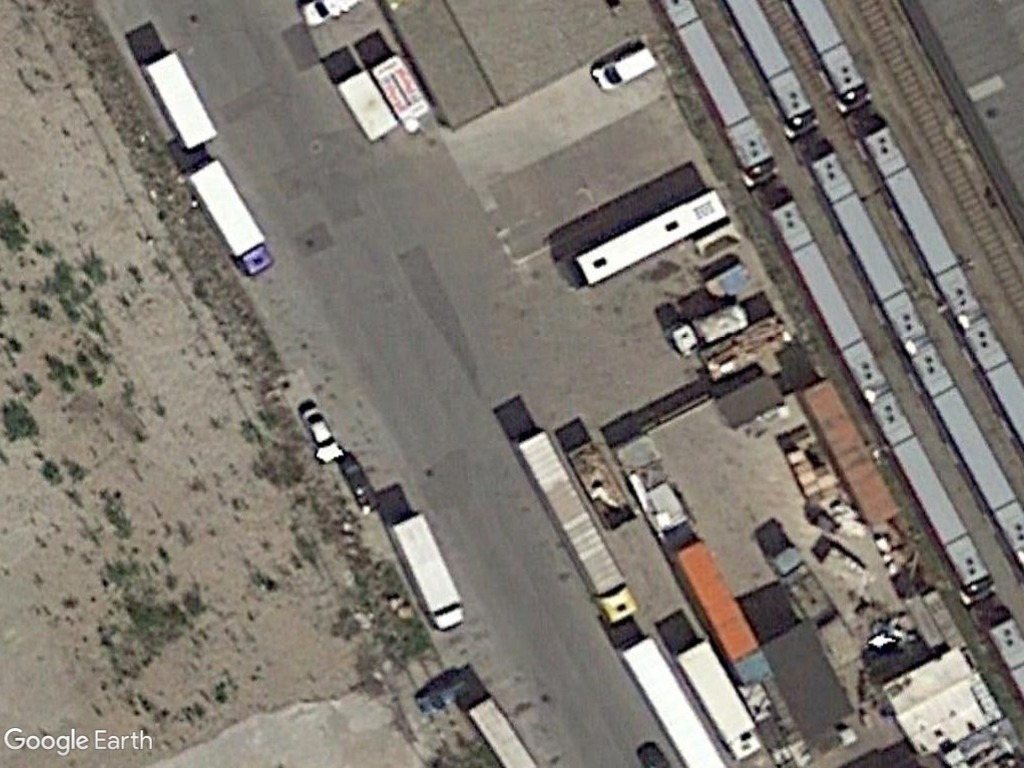bus: (566, 185, 731, 295)
car: (298, 401, 343, 468)
longvehicle: (513, 424, 643, 633)
truck: (179, 153, 275, 282), (385, 507, 468, 640)
van: (590, 44, 661, 95)
